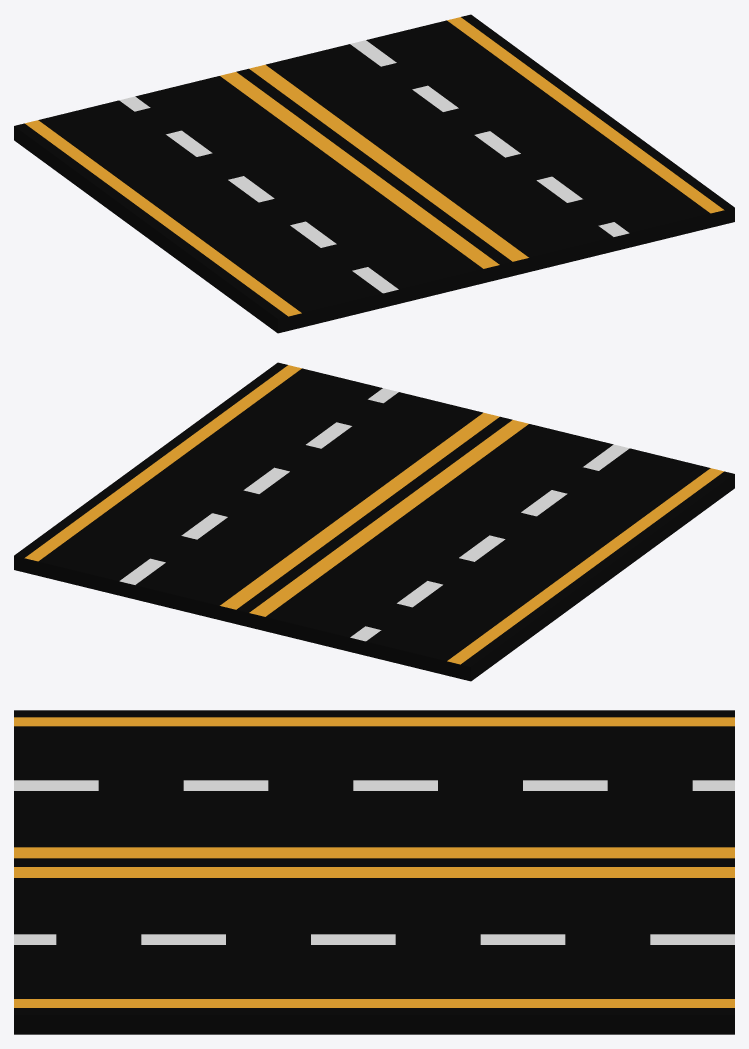
Rendered from tile_road_old.gltf.
3 renders of one model, top to bottom at view 1: azimuth 30°, elevation 25°; view 2: azimuth 150°, elevation 25°; view 3: azimuth 270°, elevation 25°, orthographic. The views are drawn at different scales.
Parts seen in each view (by area): view 1: Two_way_road_Cube.002; view 2: Two_way_road_Cube.002; view 3: Two_way_road_Cube.002.
Boxes of the visible parts, box(x1,y1,x2,y2) form: Two_way_road_Cube.002: box(14, 14, 734, 333); Two_way_road_Cube.002: box(14, 362, 734, 681); Two_way_road_Cube.002: box(14, 710, 734, 1034).
Size of the model in its own units: 2 by 0.06 by 2.
